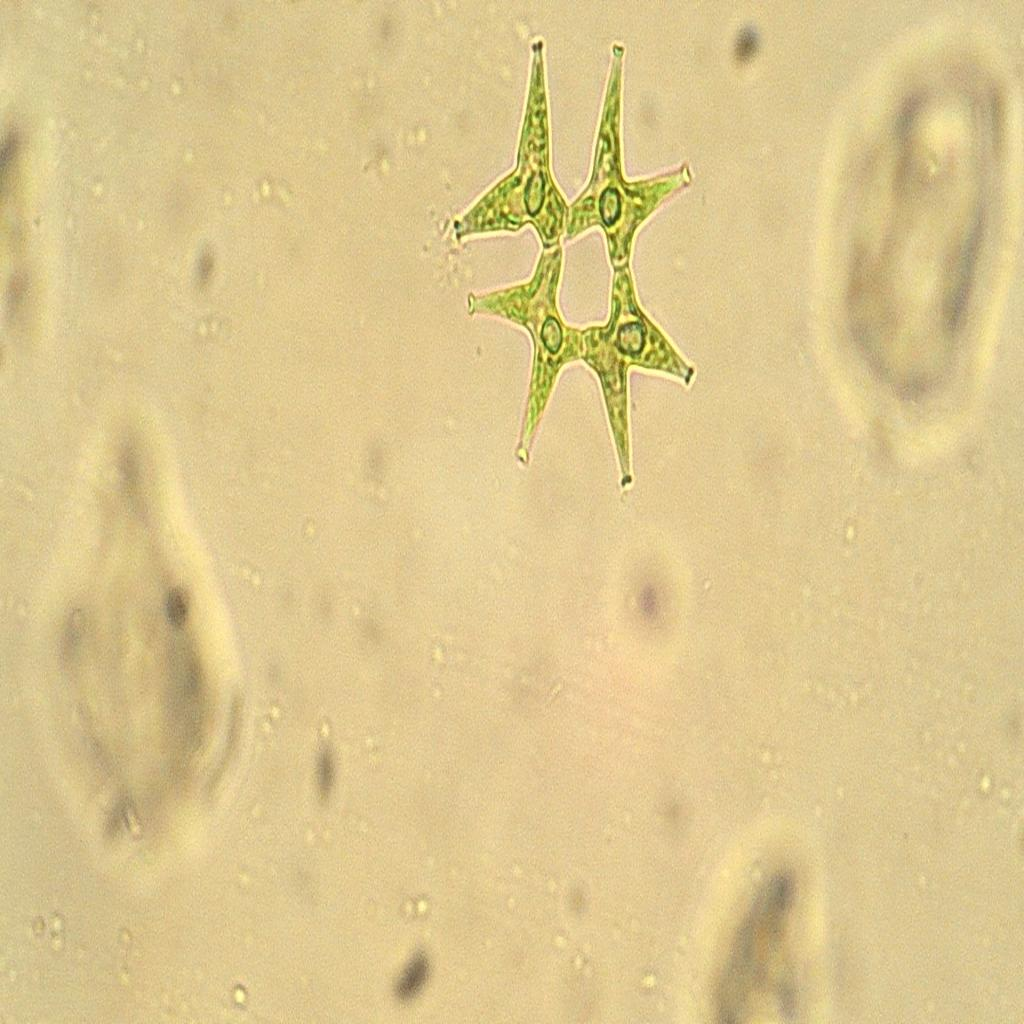Pediastrum_CT: (444, 28, 708, 497)
